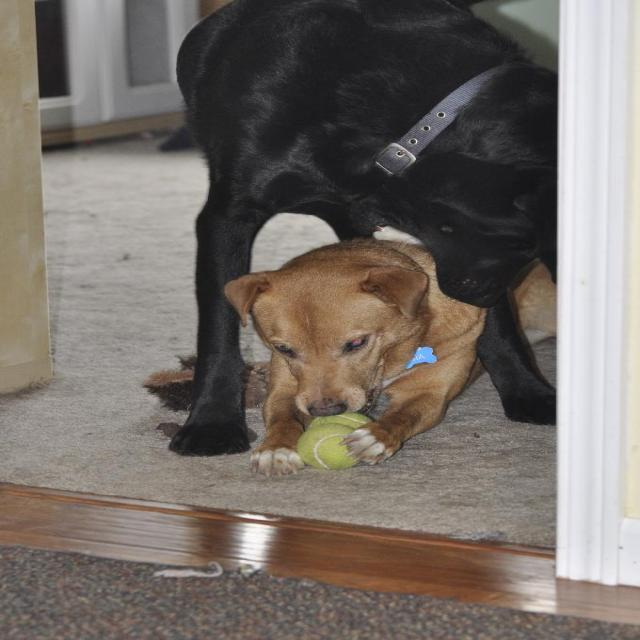Tennis ball: (302, 424, 354, 470), (306, 412, 376, 429)
